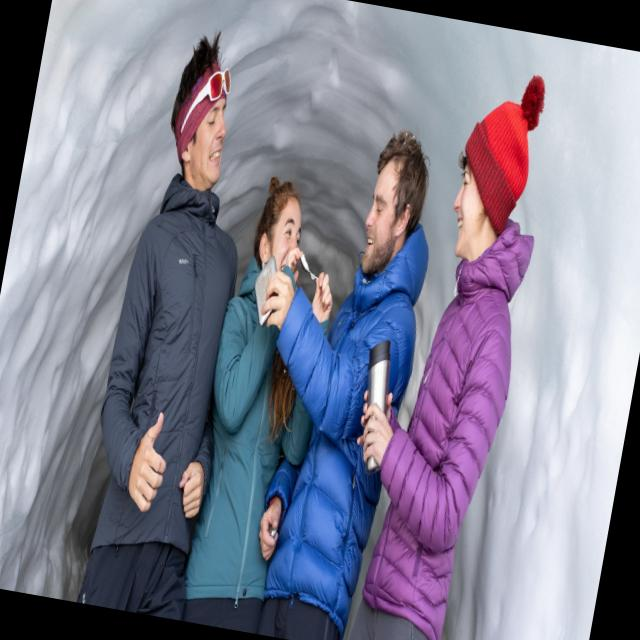Jacket: (244, 201, 452, 629), (348, 224, 546, 631), (71, 156, 267, 559), (168, 230, 334, 630)
